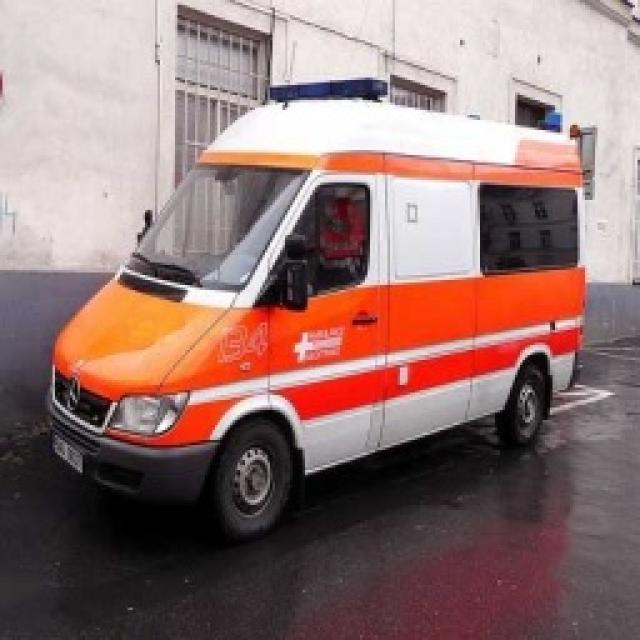emergency-vehicle: (57, 81, 583, 537)
